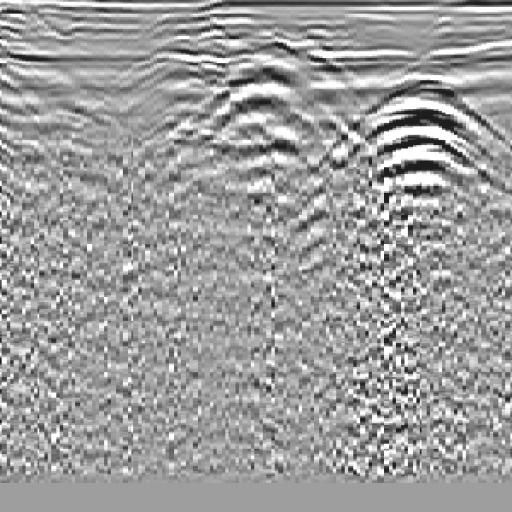metalic: (310, 64, 505, 259)
